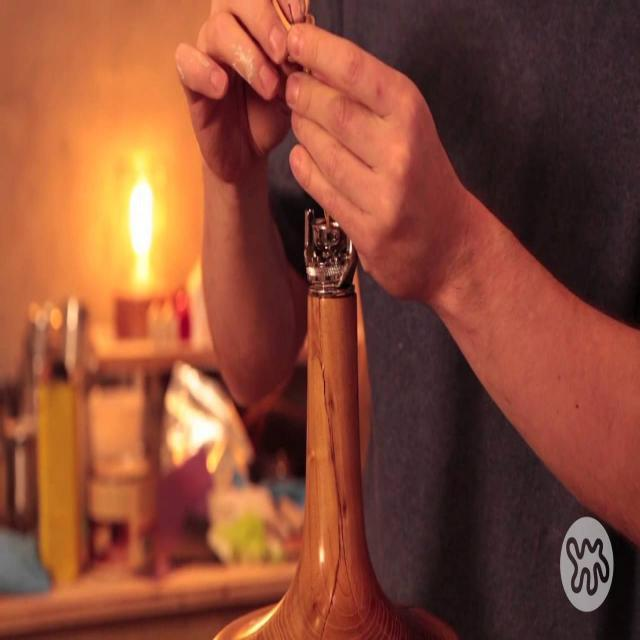bulb_on: (83, 122, 201, 340)
